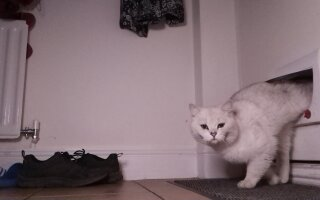bad: (184, 76, 311, 191)
